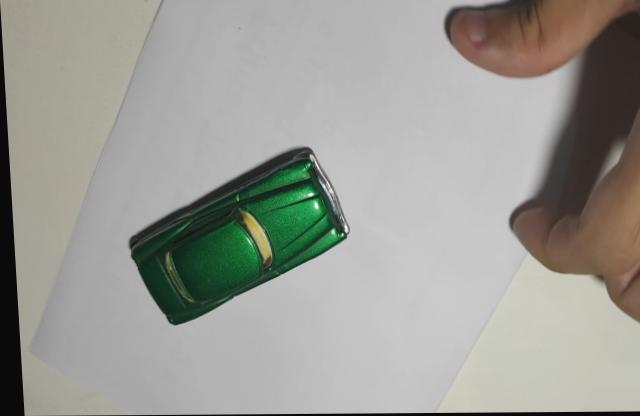06_MASERATI: (125, 146, 346, 325)
